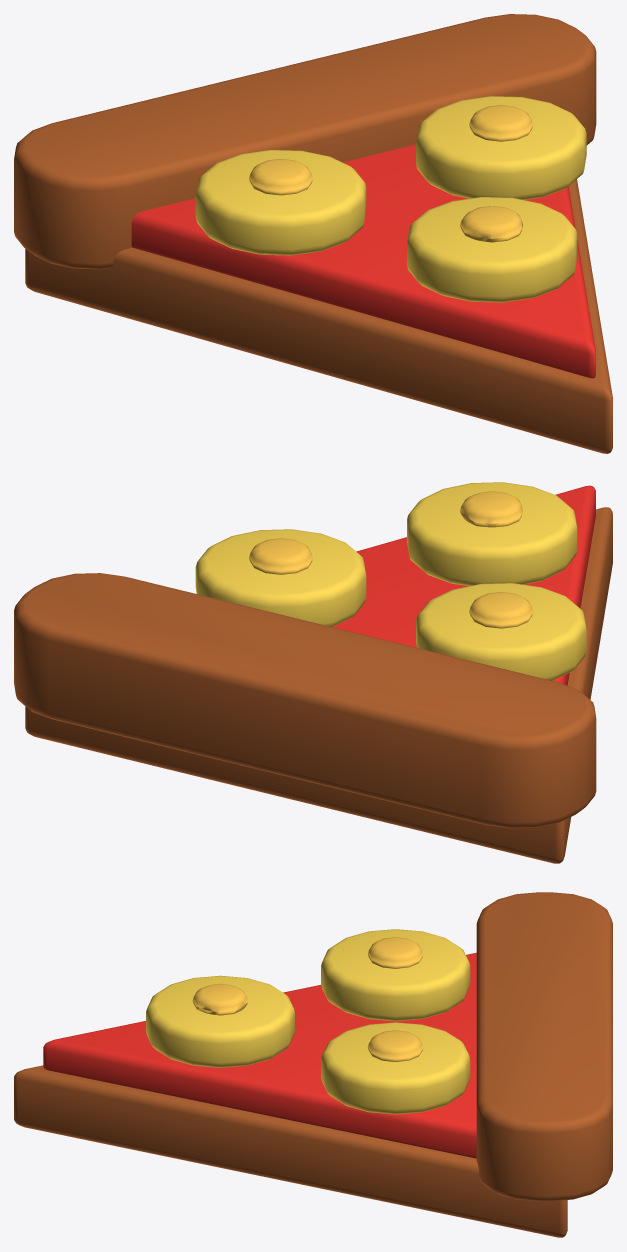
The model's file is PR3D_PizzaSlice_Shared.glb.
3 renders of one model, top to bottom at view 1: azimuth 30°, elevation 25°; view 2: azimuth 150°, elevation 25°; view 3: azimuth 270°, elevation 25°, orthographic. The views are drawn at different scales.
Visible parts, largest first — view 1: PR3D_PizzaSlice_Shared; view 2: PR3D_PizzaSlice_Shared; view 3: PR3D_PizzaSlice_Shared.
Part boxes in pixels (x1=…): PR3D_PizzaSlice_Shared: x1=14, y1=14, x2=612, y2=453; PR3D_PizzaSlice_Shared: x1=14, y1=482, x2=612, y2=863; PR3D_PizzaSlice_Shared: x1=14, y1=892, x2=612, y2=1237.
Size of the model in its own units: 0.86 by 0.23 by 0.9233.
